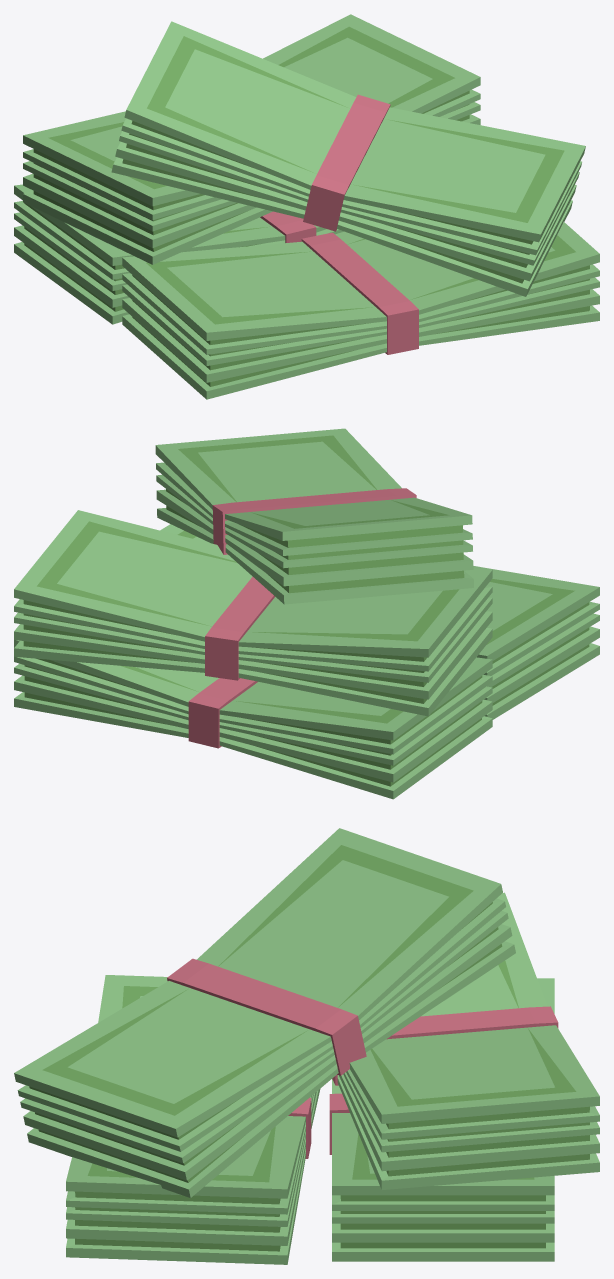
File: pp.cash_stack_alp0.glb
3 views of the same model, one above another, from view 1: azimuth 30°, elevation 25°; view 2: azimuth 150°, elevation 25°; view 3: azimuth 270°, elevation 25° (orthographic). The views are drawn at different scales.
Visible parts, largest first — view 1: Cash1, Cash, Cash2, Cash3; view 2: Cash2, Cash1, Cash3, Cash; view 3: Cash1, Cash2, Cash, Cash3.
Boxes of the visible parts, x1,y1,x2,y2 form: Cash1: (111,21,585,296); Cash: (122,222,599,399); Cash2: (23,14,480,264); Cash3: (14,184,344,324); Cash2: (14,510,492,716); Cash1: (155,428,473,604); Cash3: (14,640,492,799); Cash: (160,524,599,719); Cash1: (14,828,515,1197); Cash2: (332,892,599,1189); Cash: (66,975,320,1264); Cash3: (329,978,554,1261).
Bounding box in the file's own units: 0.1484 × 0.0734 × 0.16.
